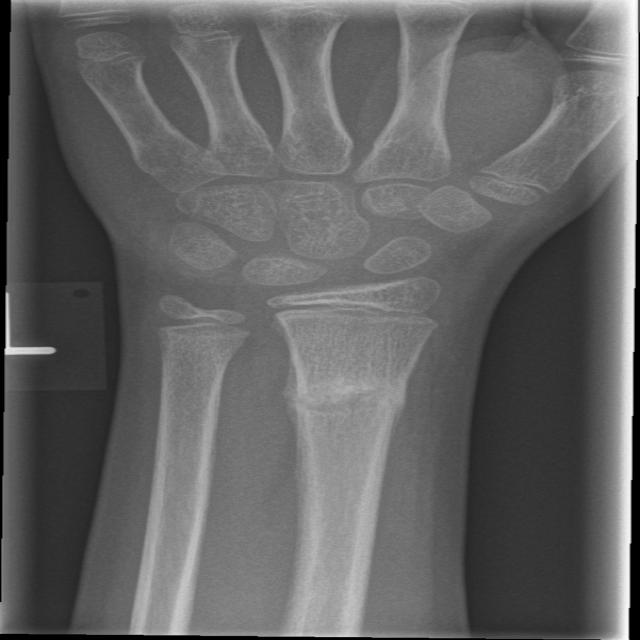radius fracture: (246, 354, 437, 505)
